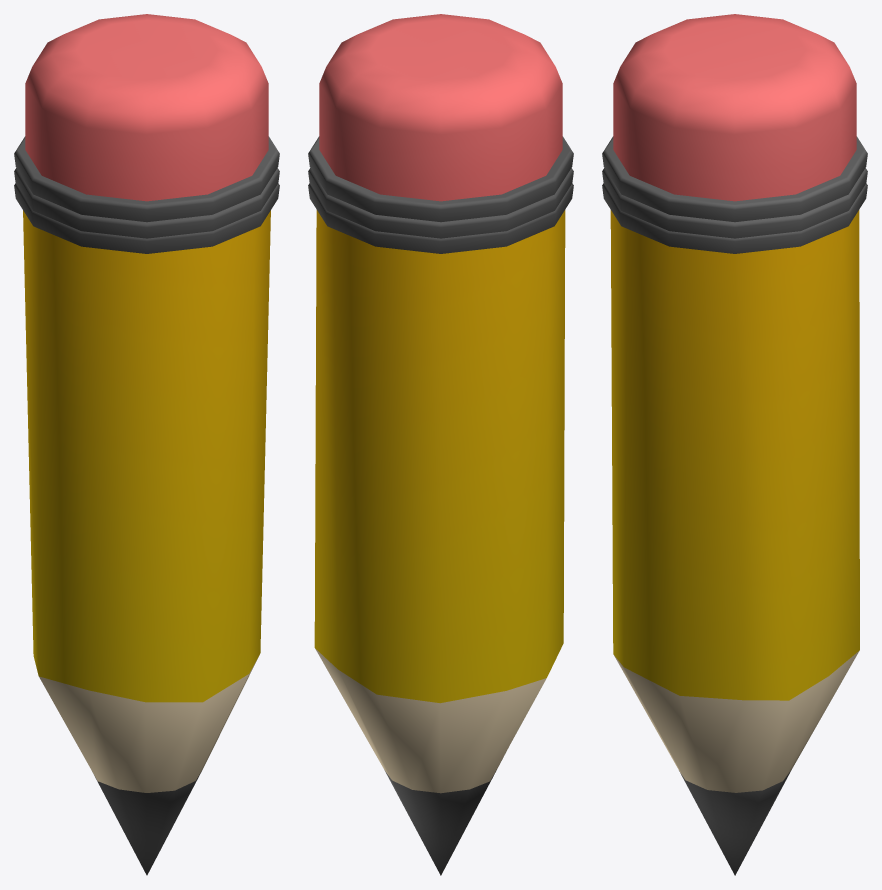
Rendered from Pencill_1.fbx.
3 views of the same model, side by side, from view 1: azimuth 30°, elevation 25°; view 2: azimuth 150°, elevation 25°; view 3: azimuth 270°, elevation 25° (orthographic).
Visible parts, largest first — view 1: Pencill_1; view 2: Pencill_1; view 3: Pencill_1.
Part boxes in pixels (x1,y1,x2,y2): Pencill_1: (14, 14, 279, 875); Pencill_1: (308, 14, 573, 875); Pencill_1: (602, 14, 867, 875).
Bounding box in the file's own units: 0.0146 × 0.0501 × 0.0146.
